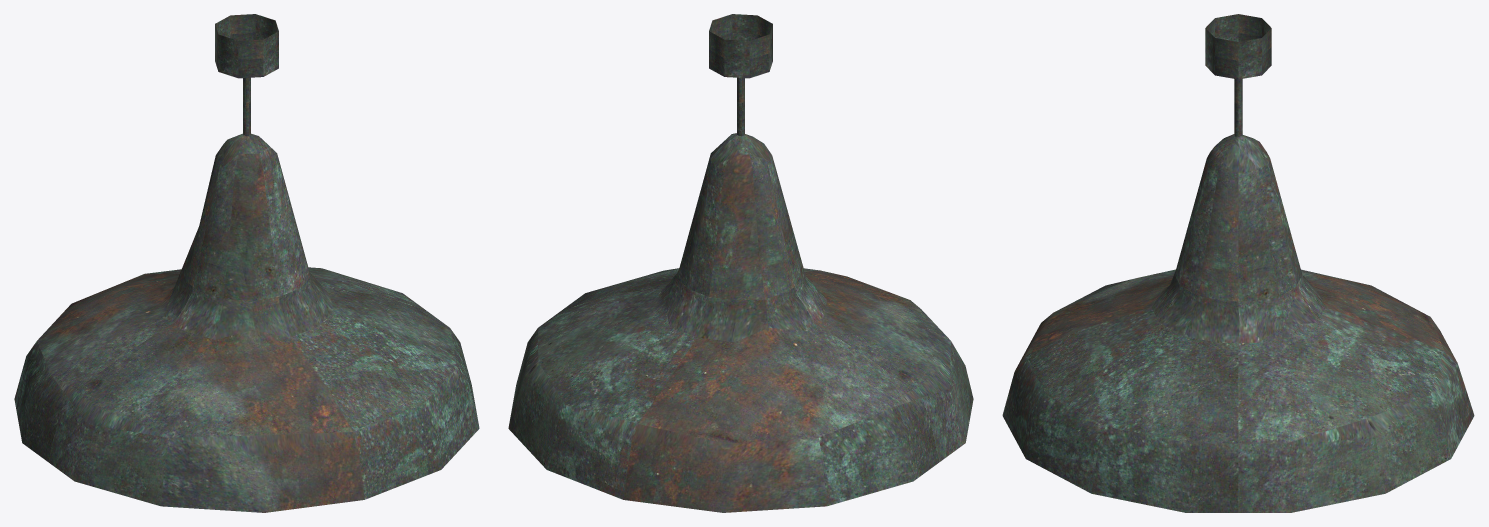
File: lamp4.FBX
The picture shows the model from 3 angles, left to right: view 1: azimuth 30°, elevation 25°; view 2: azimuth 150°, elevation 25°; view 3: azimuth 270°, elevation 25°; orthographic projection.
Parts seen in each view (by area): view 1: lamp4; view 2: lamp4; view 3: lamp4.
Part boxes in pixels (x1,y1,x2,y2): lamp4: (14, 14, 479, 512); lamp4: (508, 14, 973, 512); lamp4: (1002, 14, 1474, 512).
Size of the model in its own units: 0.3886 by 0.362 by 0.3986.
